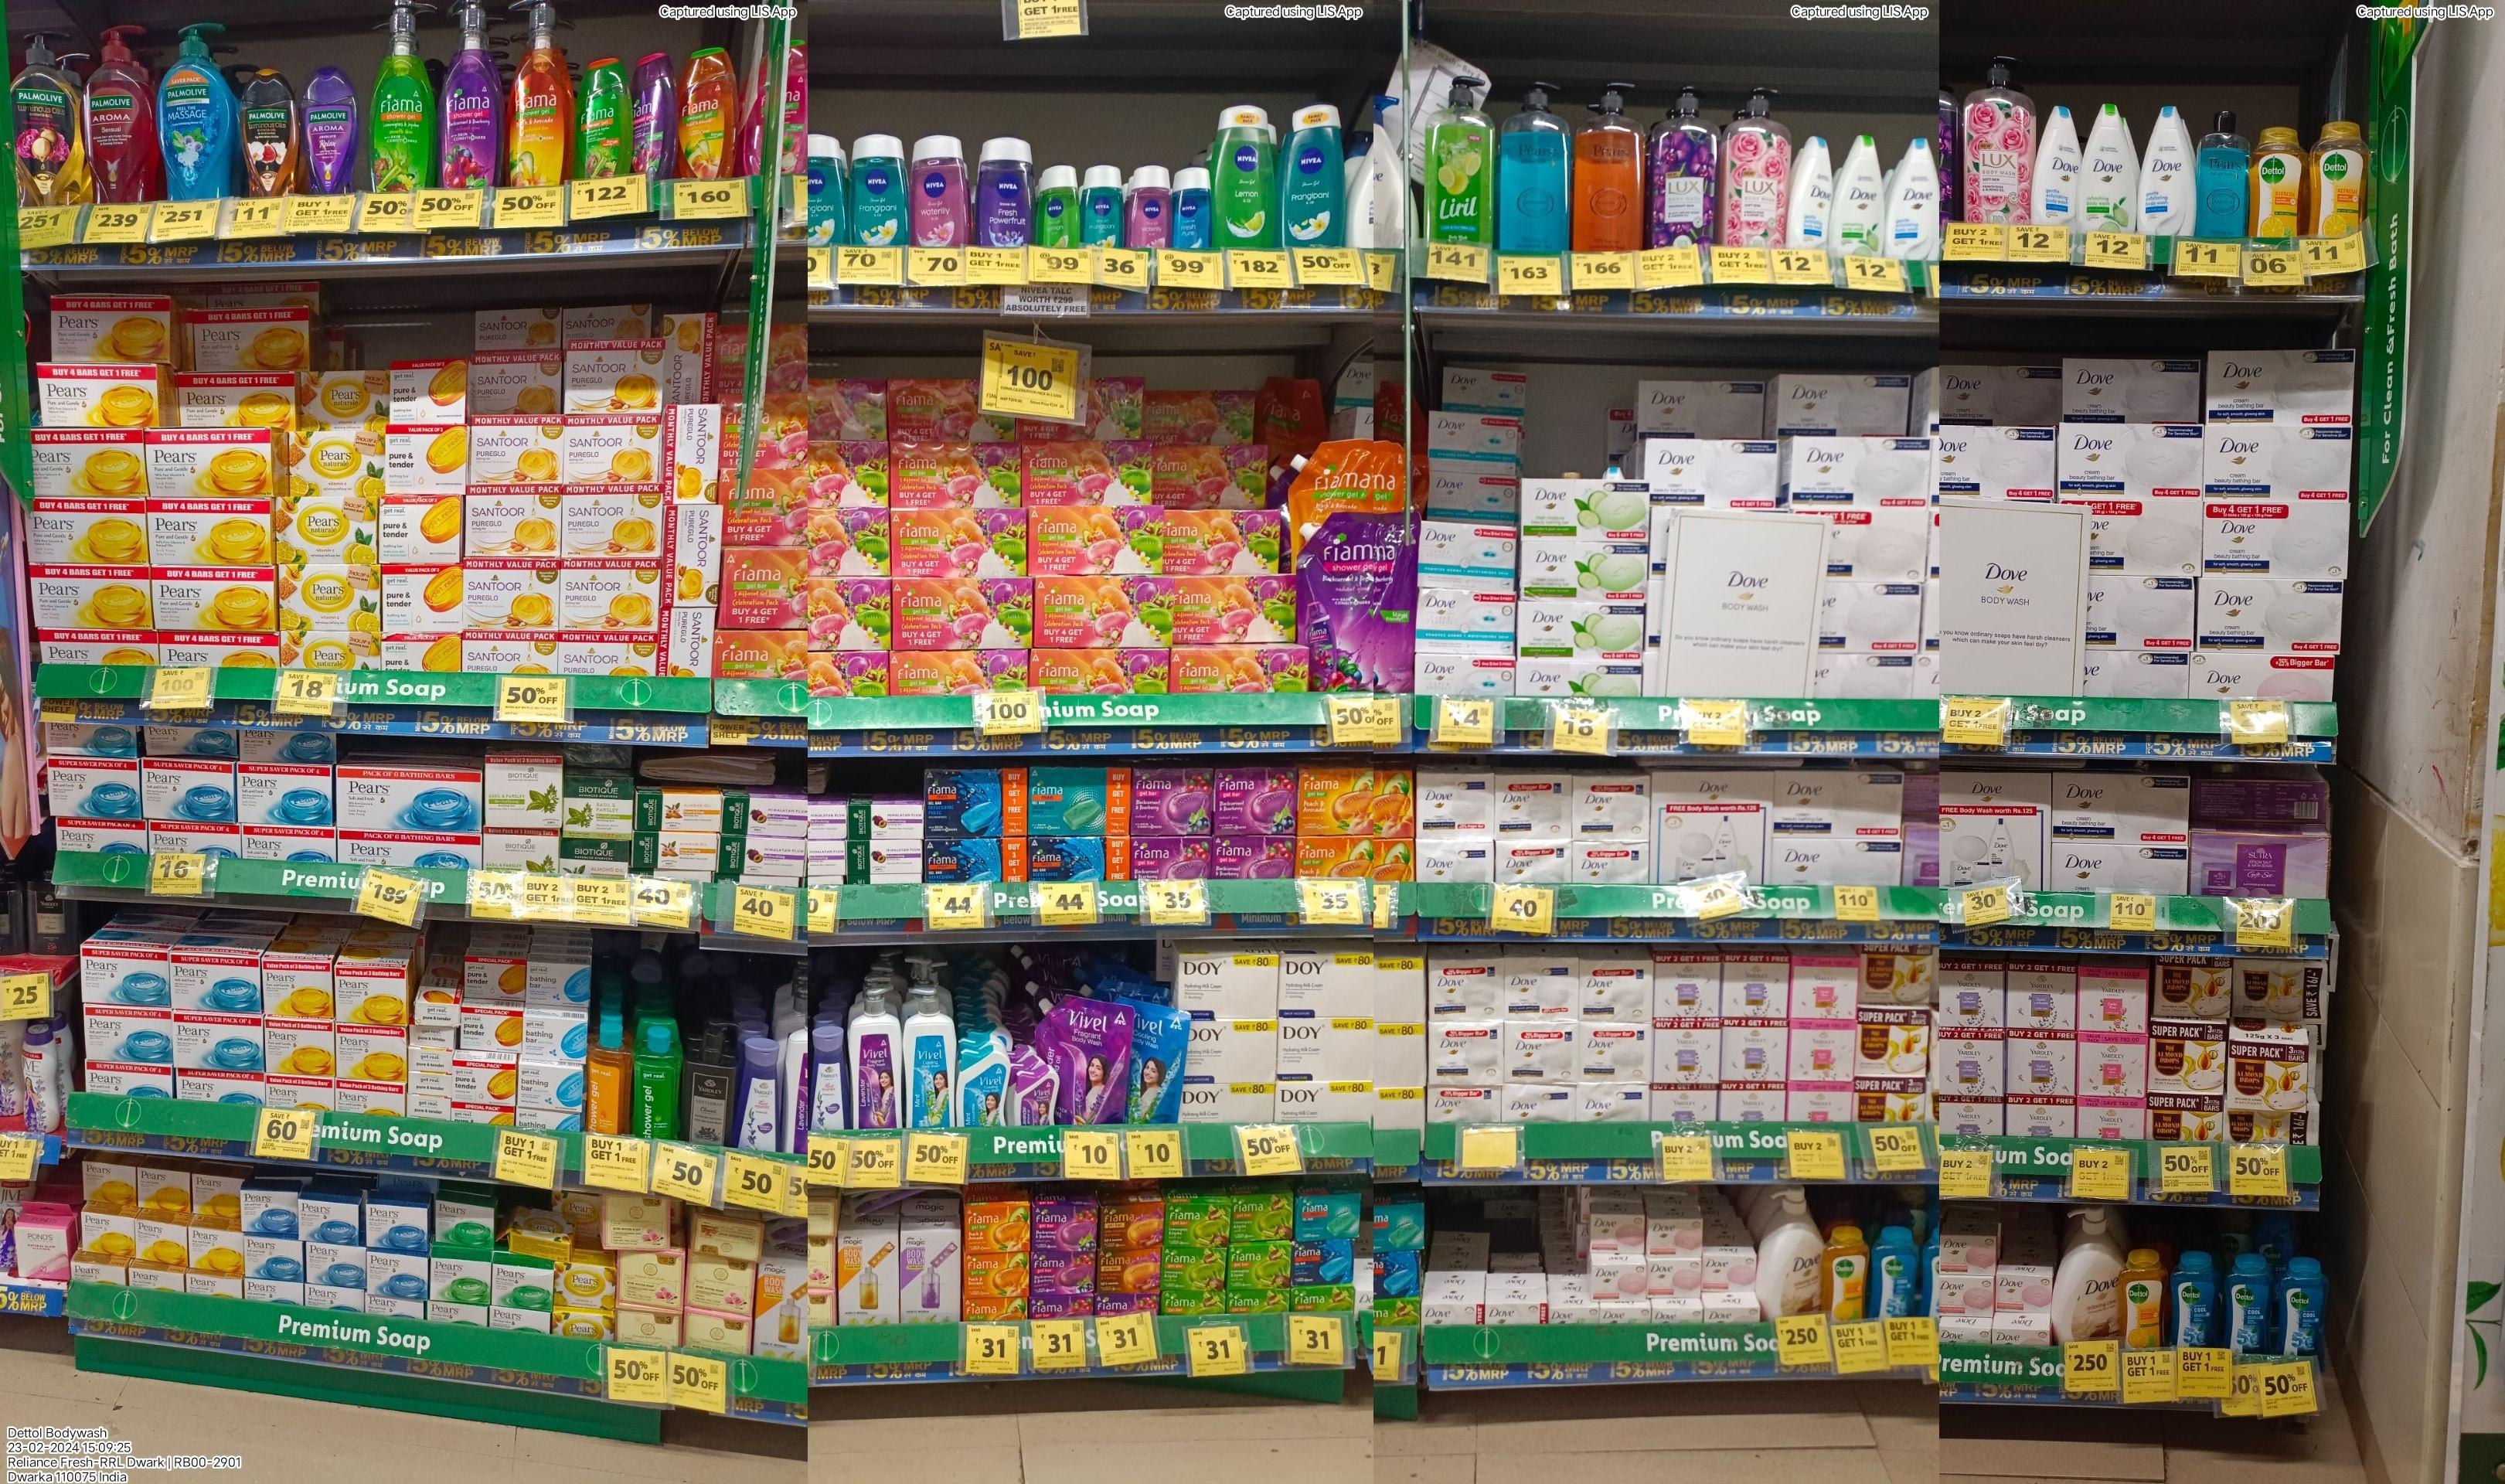Dettol_Bodywash_Cool: (2224, 1256, 2274, 1350), (2168, 1256, 2217, 1346), (2281, 1263, 2325, 1357), (1866, 1233, 1915, 1316)
Dettol_Bodywash_Refresh: (2251, 122, 2307, 237), (2309, 118, 2362, 238), (2118, 1247, 2166, 1346), (1825, 1231, 1866, 1327)
Dove_Gentle_Exfoliating_Body_Wash_250ML: (2138, 101, 2196, 238), (2024, 99, 2079, 224), (1890, 141, 1938, 263), (1784, 132, 1827, 251)
Dove_Refreshing_Body_Wash_250ML: (2085, 97, 2136, 233), (1830, 129, 1885, 254)
Fiama_Shower_Gel_Lemongrass_and_Jojoba_250ML: (576, 58, 627, 173)
Fiama_Shower_Gel_Peach_and_Avocado_250ML: (675, 44, 738, 184)
Nivea_Shower_Gel_Frangipani_and_Oil_250ML: (1283, 101, 1346, 246), (853, 138, 908, 246), (802, 129, 850, 246)
Nivea_Shower_Gel_Fresh_Powerfruit_250ML: (975, 138, 1035, 244)
Nivea_Shower_Gel_Lemon_and_Oil_250ML: (1215, 102, 1279, 247)
Nivea_Shower_Gel_Waterlily_and_Oil_250ML: (912, 134, 973, 246)
Palmolive_Aroma_Relax_250ML: (302, 62, 355, 191)
Palmolive_Luminous_Oils_With_White_Orchid_Shower_Gel_250ML: (238, 71, 300, 198)
